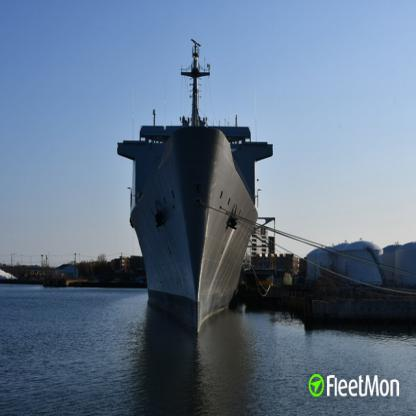Military Ship: (117, 38, 274, 332)
